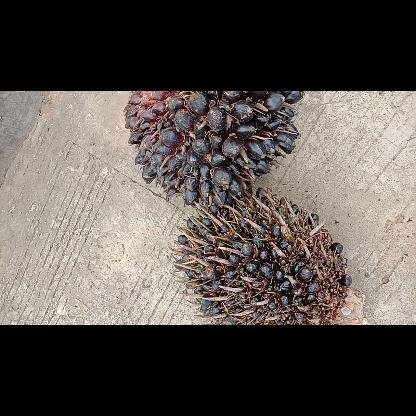TBS mentah: (167, 184, 369, 324), (120, 90, 308, 214)
